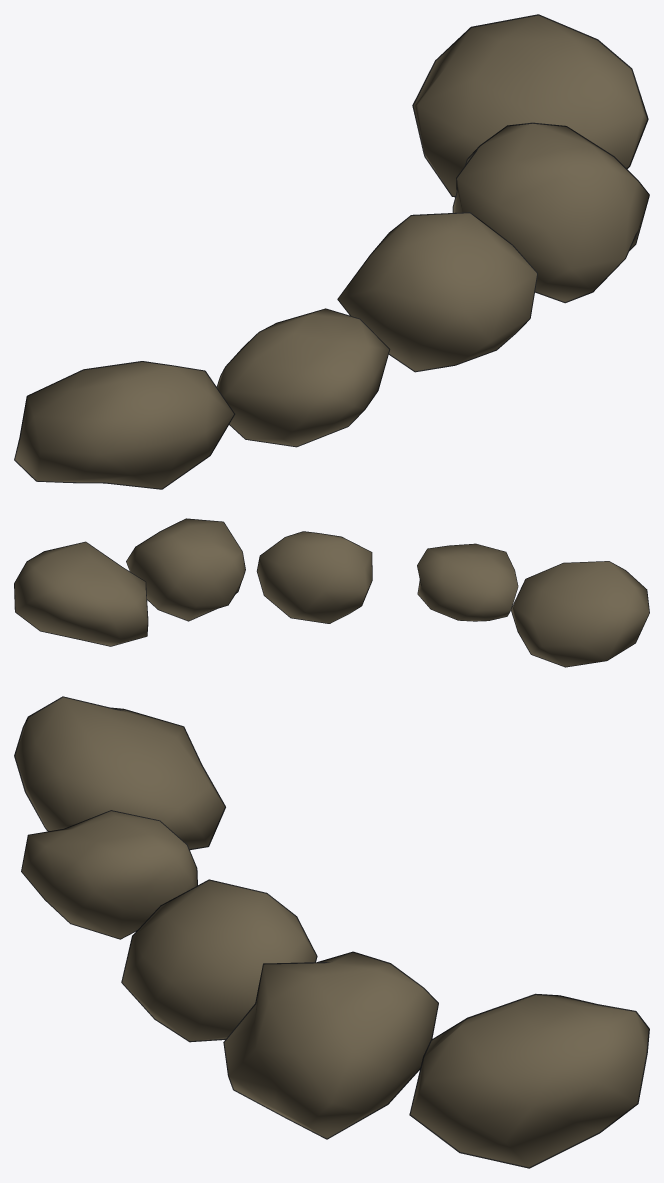
The model's file is AppleTreeRocks.fbx.
3 views of the same model, one above another, from view 1: azimuth 30°, elevation 25°; view 2: azimuth 150°, elevation 25°; view 3: azimuth 270°, elevation 25° (orthographic). The views are drawn at different scales.
Parts seen in each view (by area): view 1: AppleTree_Clod_00, AppleTree_Clod_13, AppleTree_Clod_12, AppleTree_Clod_10, AppleTree_Clod_11; view 2: AppleTree_Clod_10, AppleTree_Clod_00, AppleTree_Clod_13, AppleTree_Clod_12, AppleTree_Clod_11; view 3: AppleTree_Clod_00, AppleTree_Clod_13, AppleTree_Clod_10, AppleTree_Clod_12, AppleTree_Clod_11.
Part boxes in pixels (x1,y1,x2,y2): AppleTree_Clod_00: (412,14,648,197); AppleTree_Clod_13: (452,122,649,303); AppleTree_Clod_12: (337,212,537,372); AppleTree_Clod_10: (14,361,235,489); AppleTree_Clod_11: (216,308,390,447); AppleTree_Clod_10: (510,561,649,667); AppleTree_Clod_00: (14,541,148,646); AppleTree_Clod_13: (126,518,245,621); AppleTree_Clod_12: (256,531,372,623); AppleTree_Clod_11: (417,543,518,621); AppleTree_Clod_00: (409,993,649,1168); AppleTree_Clod_13: (223,951,438,1139); AppleTree_Clod_10: (14,696,225,849); AppleTree_Clod_12: (121,879,317,1042); AppleTree_Clod_11: (21,810,197,939).
Size of what is drawn, in the model's own units: 172 by 30.06 by 112.
